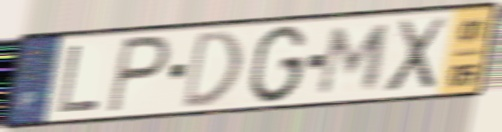D: (179, 27, 246, 112)
G: (245, 23, 310, 106)
L: (54, 43, 103, 116)
M: (313, 22, 395, 99)
P: (104, 33, 173, 116)
X: (381, 14, 451, 96)
